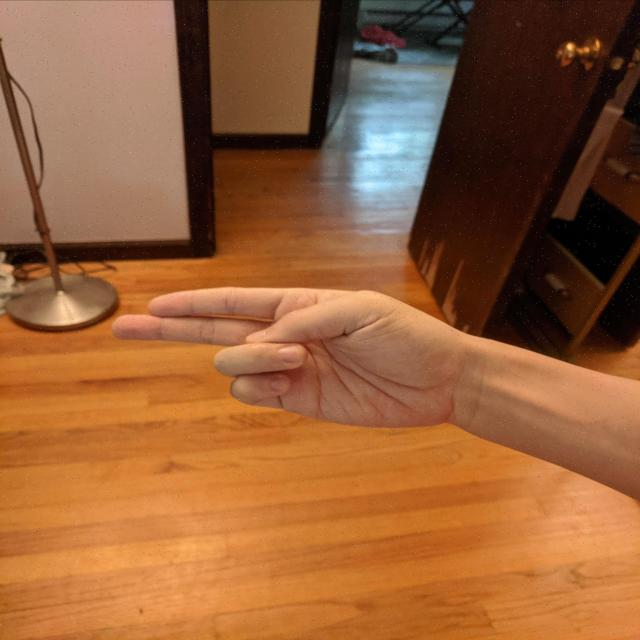H: (107, 286, 469, 431)
